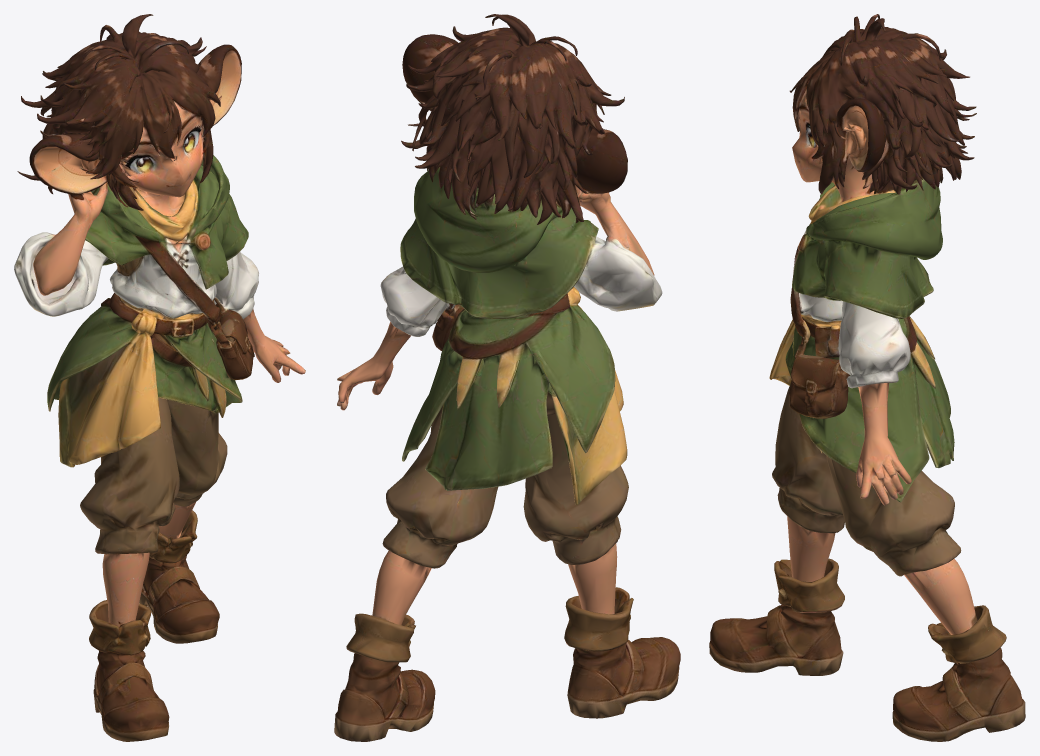
File: vesperi.glb
The picture shows the model from 3 angles, left to right: view 1: azimuth 30°, elevation 25°; view 2: azimuth 150°, elevation 25°; view 3: azimuth 270°, elevation 25°; orthographic projection. The views are drawn at different scales.
Bounding box in the file's own units: 0.8793 × 1.9 × 0.8076.
Materials: 1 (1 with a texture image).
